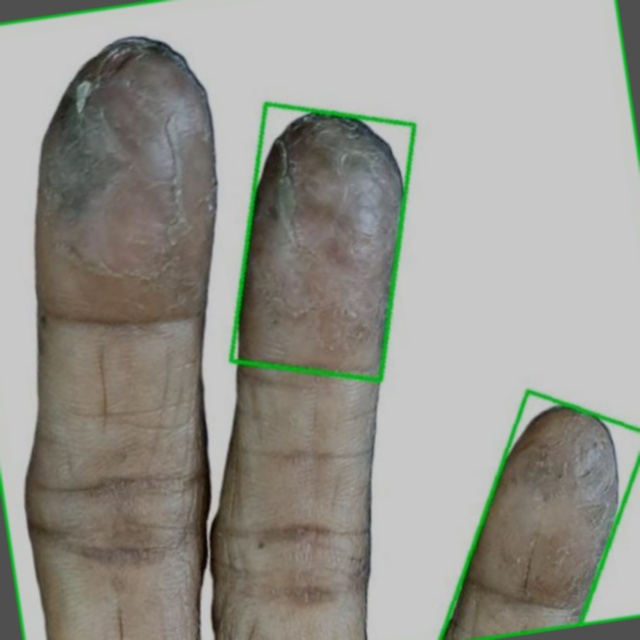Contact Dermatitis: (0, 0, 639, 639), (231, 104, 415, 379), (440, 390, 639, 639)
